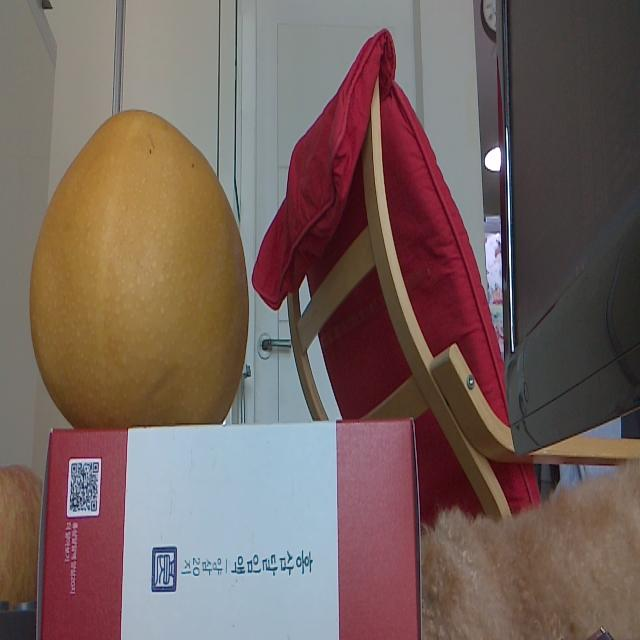pear: (29, 108, 248, 426)
